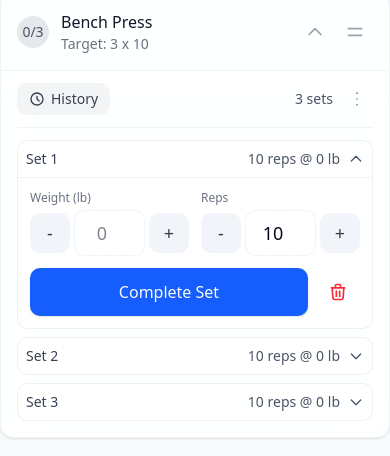
Test case: ExerciseAccordion › should show "Add Set" button
This screenshot has width=390, height=456.
# Add Set is in the overflow menu
Step 1. Click the button named "More options" → (357, 99), box [341,83,373,115]
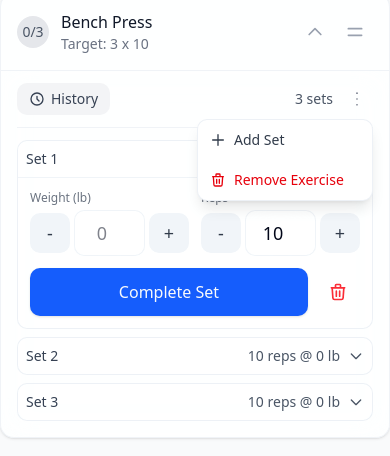
Check: the button "Add Set" is shown, box [198,120,372,160]
